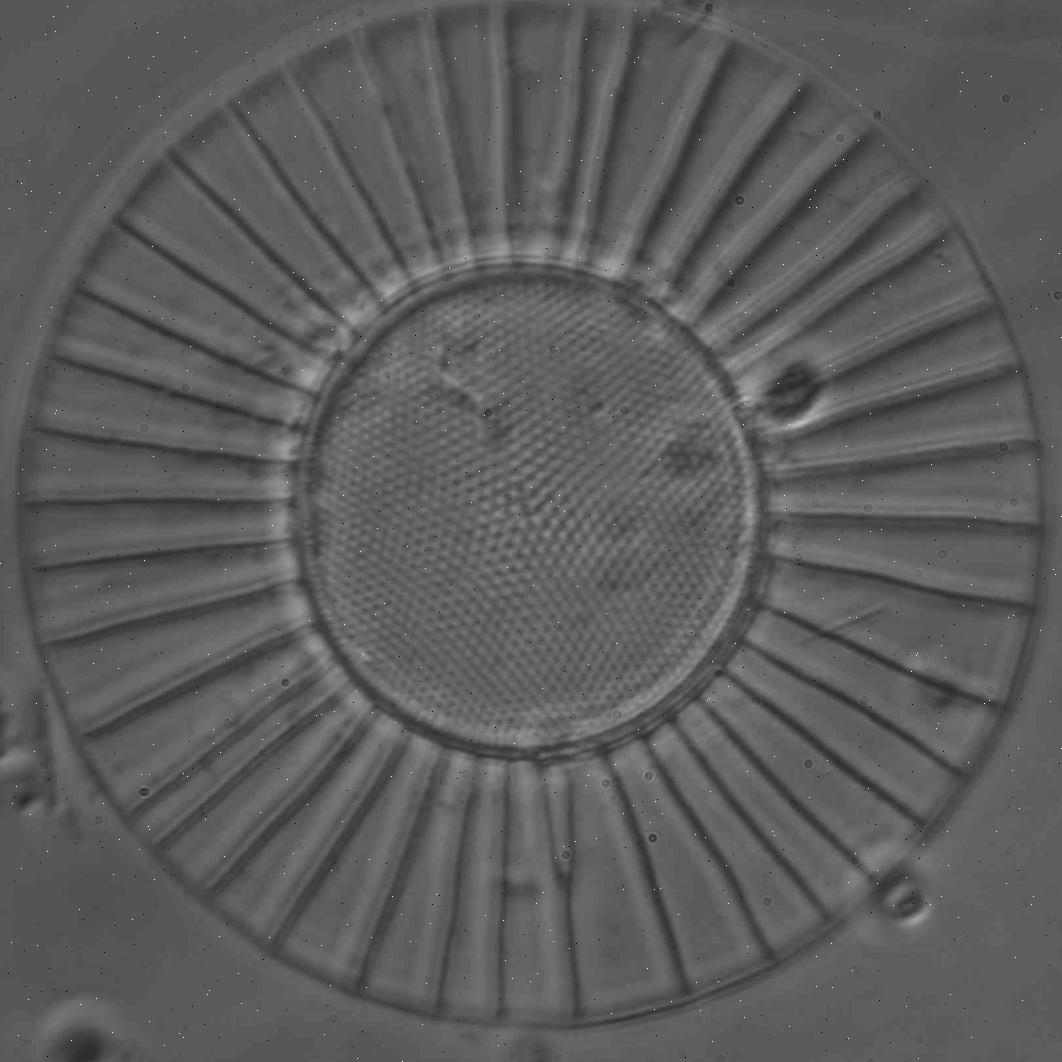planktoniella_sol: (21, 0, 1043, 1023)
